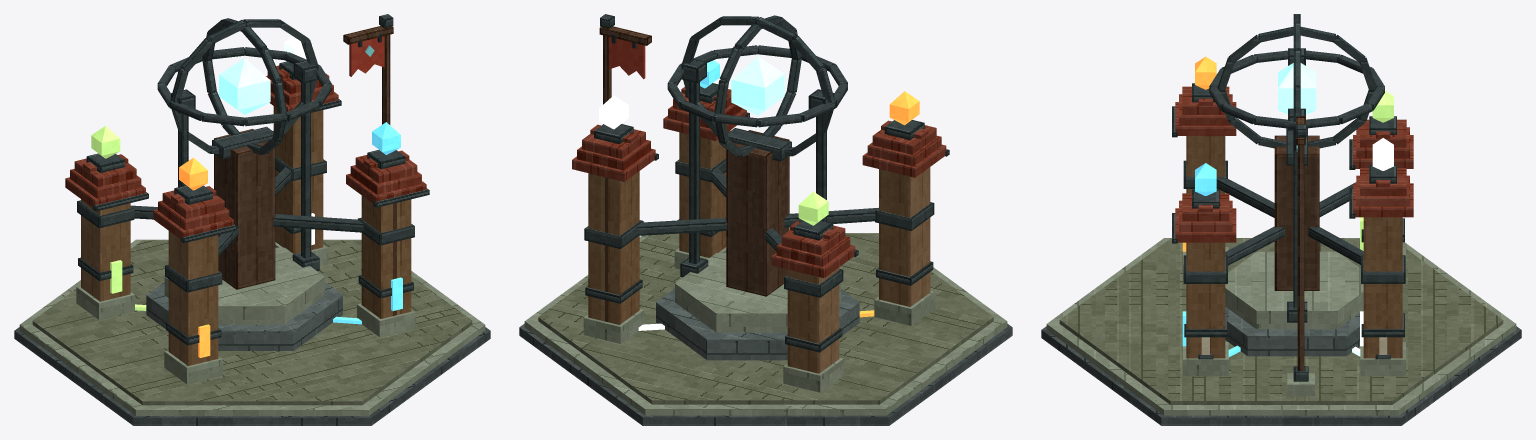
The model's file is orc_elemental_ritual_hex_v1.glb.
3 renders of one model, left to right at view 1: azimuth 30°, elevation 25°; view 2: azimuth 150°, elevation 25°; view 3: azimuth 270°, elevation 25°, orthographic. The views are drawn at different scales.
Parts seen in each view (by area): view 1: Orc_Elemental_Ritual_Hex_V1_Foundation, Orc_Elemental_Ritual_Hex_V1_Focus, Orc_Elemental_Ritual_Hex_V1_Hall, Orc_Elemental_Ritual_Hex_V1_Roofs, Orc_Elemental_Ritual_Hex_V1_Courtyard, Orc_Elemental_Ritual_Hex_V1_Faction, Orc_Elemental_Ritual_Hex_V1_Details; view 2: Orc_Elemental_Ritual_Hex_V1_Foundation, Orc_Elemental_Ritual_Hex_V1_Focus, Orc_Elemental_Ritual_Hex_V1_Hall, Orc_Elemental_Ritual_Hex_V1_Roofs, Orc_Elemental_Ritual_Hex_V1_Courtyard, Orc_Elemental_Ritual_Hex_V1_Faction, Orc_Elemental_Ritual_Hex_V1_Details; view 3: Orc_Elemental_Ritual_Hex_V1_Foundation, Orc_Elemental_Ritual_Hex_V1_Focus, Orc_Elemental_Ritual_Hex_V1_Hall, Orc_Elemental_Ritual_Hex_V1_Roofs, Orc_Elemental_Ritual_Hex_V1_Courtyard, Orc_Elemental_Ritual_Hex_V1_Faction, Orc_Elemental_Ritual_Hex_V1_Details.
Boxes of the visible parts, x1=… form: Orc_Elemental_Ritual_Hex_V1_Foundation: x1=14, y1=239, x2=490, y2=425; Orc_Elemental_Ritual_Hex_V1_Focus: x1=77, y1=18, x2=414, y2=357; Orc_Elemental_Ritual_Hex_V1_Hall: x1=76, y1=106, x2=415, y2=384; Orc_Elemental_Ritual_Hex_V1_Roofs: x1=65, y1=65, x2=429, y2=243; Orc_Elemental_Ritual_Hex_V1_Courtyard: x1=146, y1=282, x2=342, y2=350; Orc_Elemental_Ritual_Hex_V1_Faction: x1=343, y1=14, x2=393, y2=124; Orc_Elemental_Ritual_Hex_V1_Details: x1=78, y1=213, x2=413, y2=345; Orc_Elemental_Ritual_Hex_V1_Foundation: x1=519, y1=233, x2=1012, y2=425; Orc_Elemental_Ritual_Hex_V1_Focus: x1=584, y1=15, x2=934, y2=332; Orc_Elemental_Ritual_Hex_V1_Hall: x1=583, y1=130, x2=934, y2=392; Orc_Elemental_Ritual_Hex_V1_Roofs: x1=572, y1=87, x2=949, y2=278; Orc_Elemental_Ritual_Hex_V1_Courtyard: x1=656, y1=289, x2=859, y2=360; Orc_Elemental_Ritual_Hex_V1_Faction: x1=588, y1=14, x2=651, y2=285; Orc_Elemental_Ritual_Hex_V1_Details: x1=585, y1=217, x2=933, y2=352; Orc_Elemental_Ritual_Hex_V1_Foundation: x1=1041, y1=238, x2=1521, y2=425; Orc_Elemental_Ritual_Hex_V1_Focus: x1=1182, y1=14, x2=1405, y2=346; Orc_Elemental_Ritual_Hex_V1_Hall: x1=1183, y1=136, x2=1405, y2=376; Orc_Elemental_Ritual_Hex_V1_Roofs: x1=1172, y1=86, x2=1413, y2=243; Orc_Elemental_Ritual_Hex_V1_Courtyard: x1=1225, y1=306, x2=1363, y2=356; Orc_Elemental_Ritual_Hex_V1_Faction: x1=1287, y1=116, x2=1314, y2=396; Orc_Elemental_Ritual_Hex_V1_Details: x1=1184, y1=218, x2=1404, y2=359.
Size of the model in its own units: 1.59 by 1.33 by 1.84.
1 material, 1 textured.
